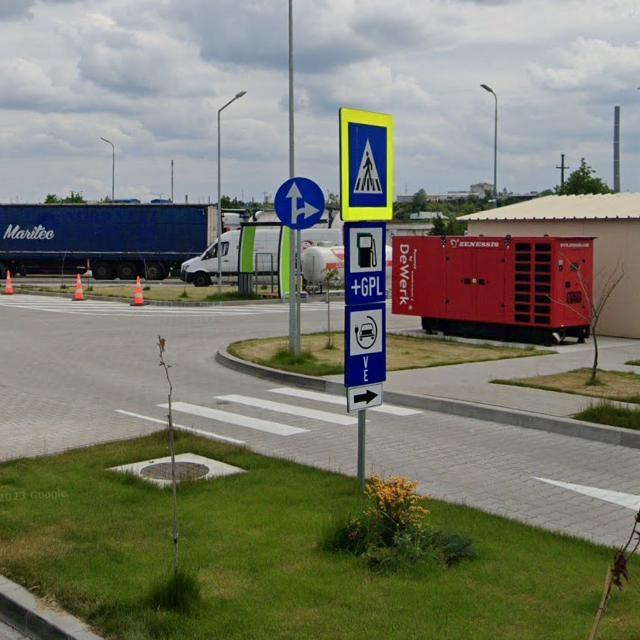info_crosswalk: (339, 107, 393, 221)
